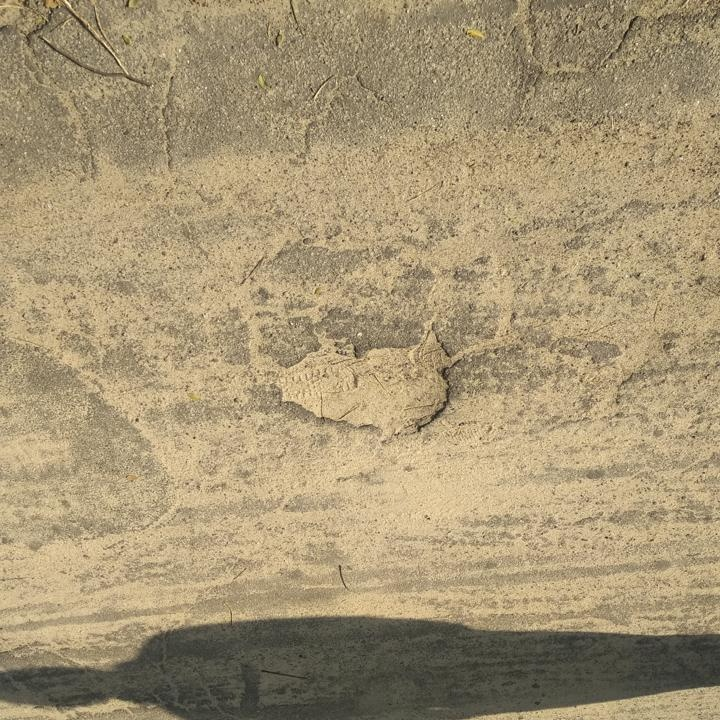pothole: (270, 322, 459, 445)
